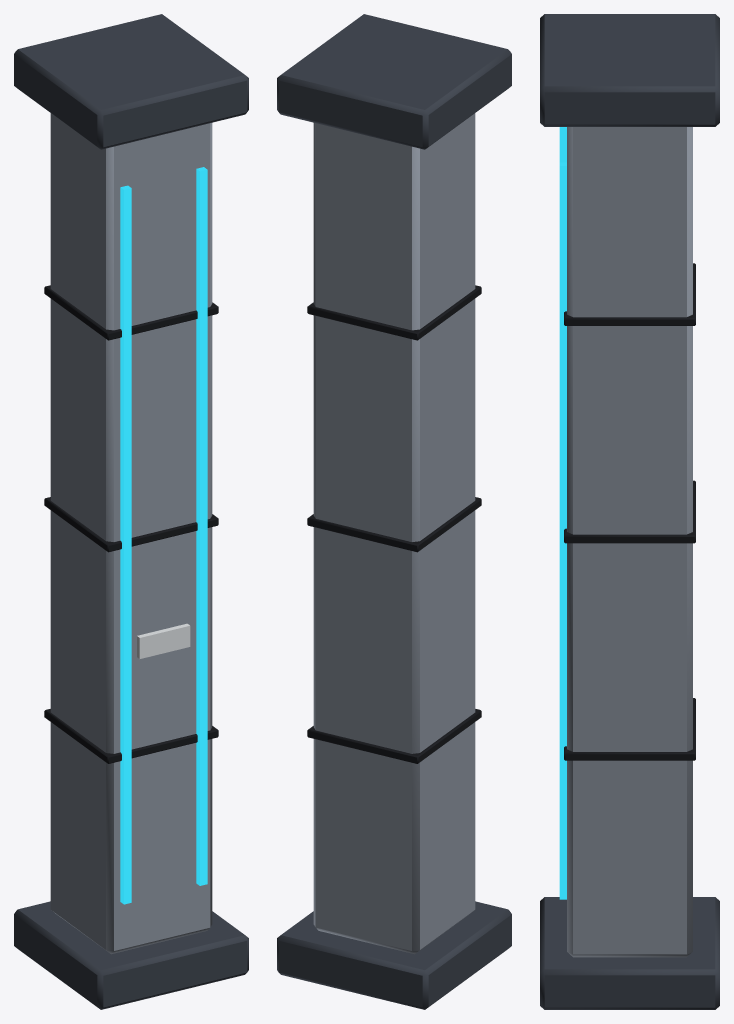
Rendered from pillar_square_plinth.glb.
3 renders of one model, left to right at view 1: azimuth 30°, elevation 25°; view 2: azimuth 150°, elevation 25°; view 3: azimuth 270°, elevation 25°, orthographic. The views are drawn at different scales.
Parts seen in each view (by area): view 1: pillar_square_plinth; view 2: pillar_square_plinth; view 3: pillar_square_plinth.
Part boxes in pixels (bbox=[...]): pillar_square_plinth: bbox=[14, 14, 248, 1009]; pillar_square_plinth: bbox=[277, 14, 511, 1009]; pillar_square_plinth: bbox=[540, 14, 719, 1009].
Size of the model in its own units: 0.6 by 3.4 by 0.6.
